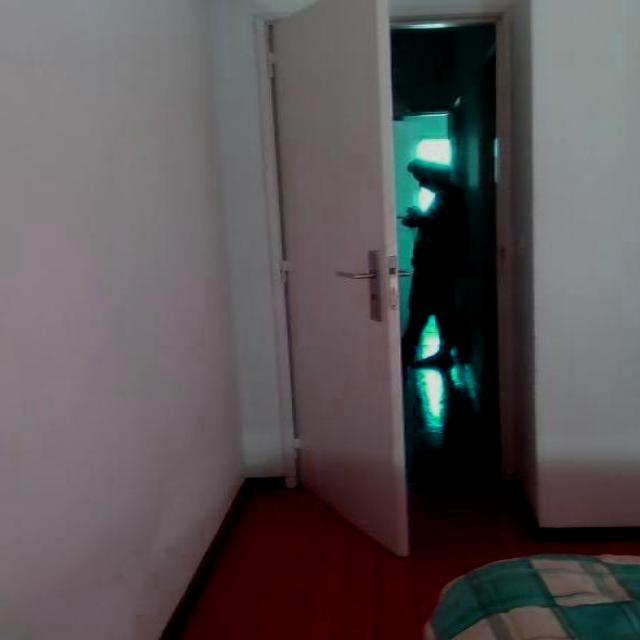door: (266, 6, 411, 564)
